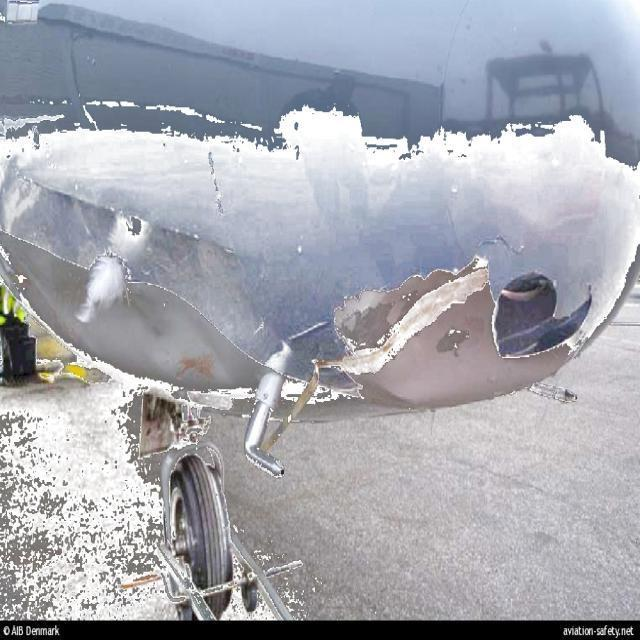crack: (475, 231, 528, 261)
dent: (370, 326, 436, 407), (129, 294, 180, 380), (191, 316, 234, 381)
